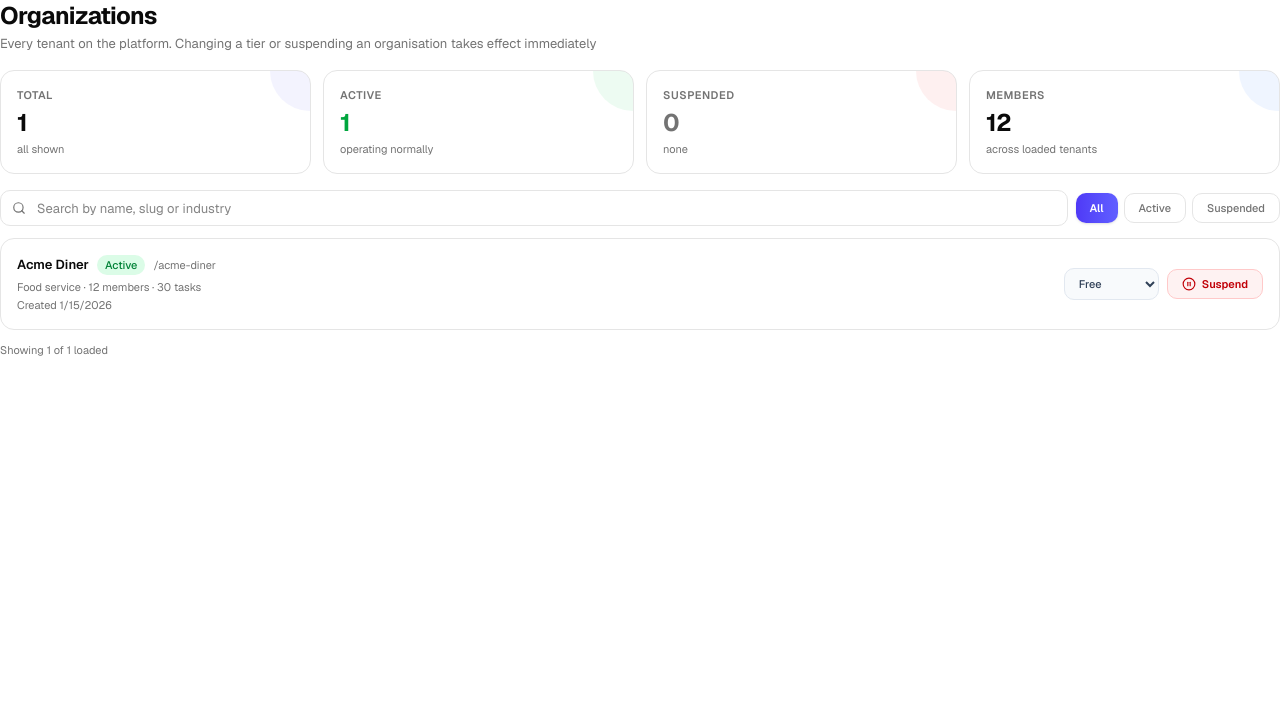
Test: Organizations › cancelling leaves the organisation alone
Click the button "Suspend" at point(1215, 284), box [1167,269,1263,299]
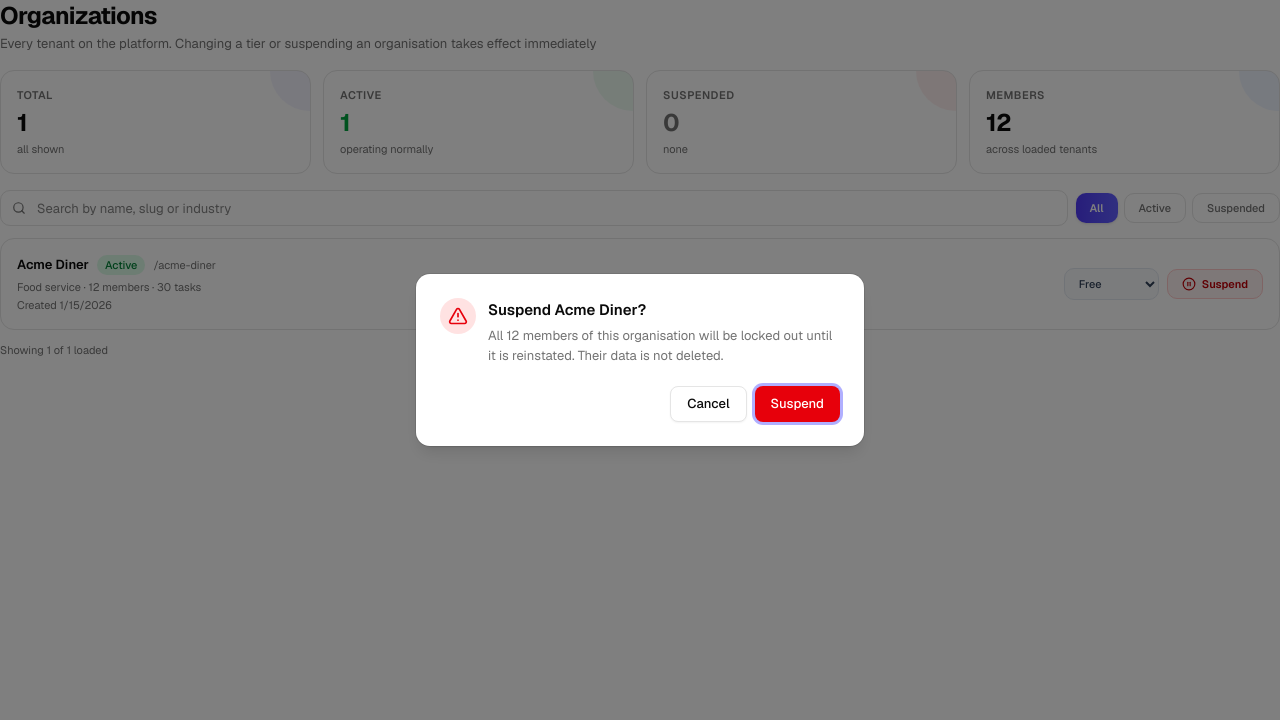
Click the button "Cancel" at point(708, 404), box [670,386,747,422]
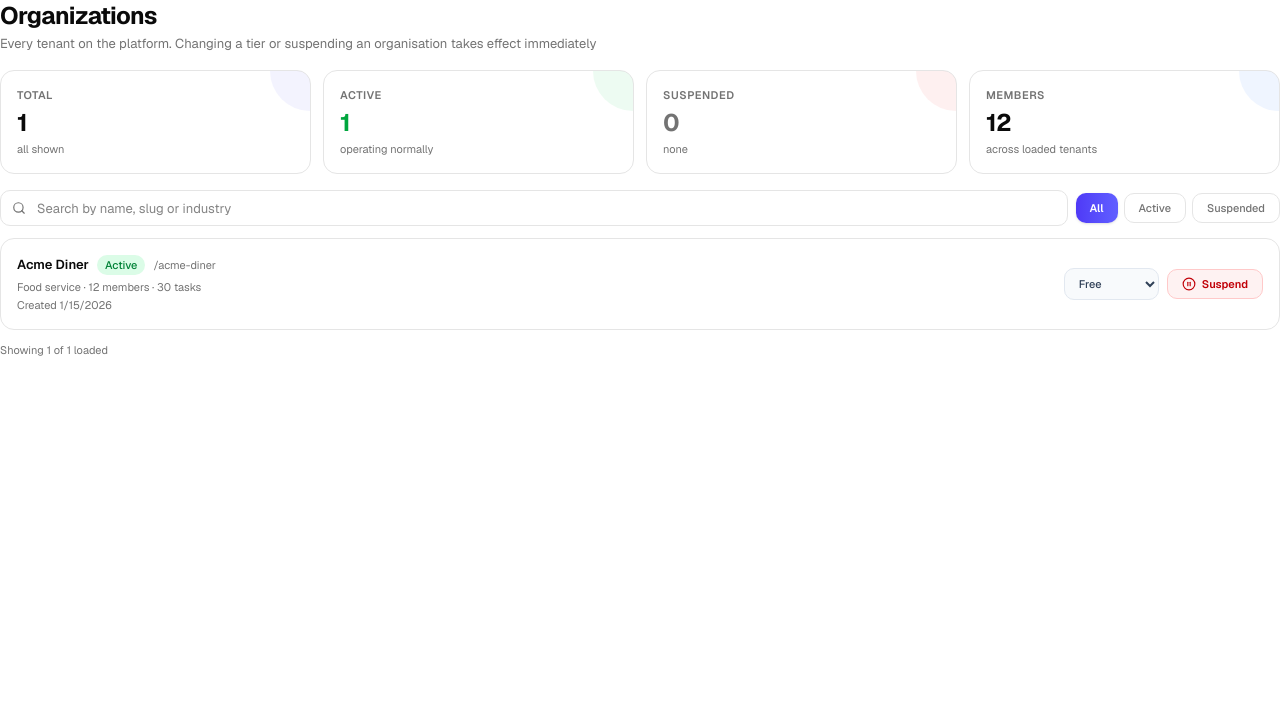
Expected: the heading "Suspend Acme Diner?" is gone
